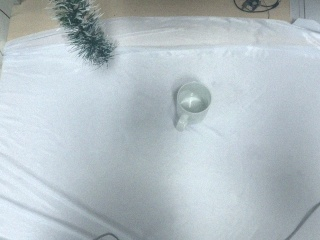cup: (173, 80, 212, 131)
